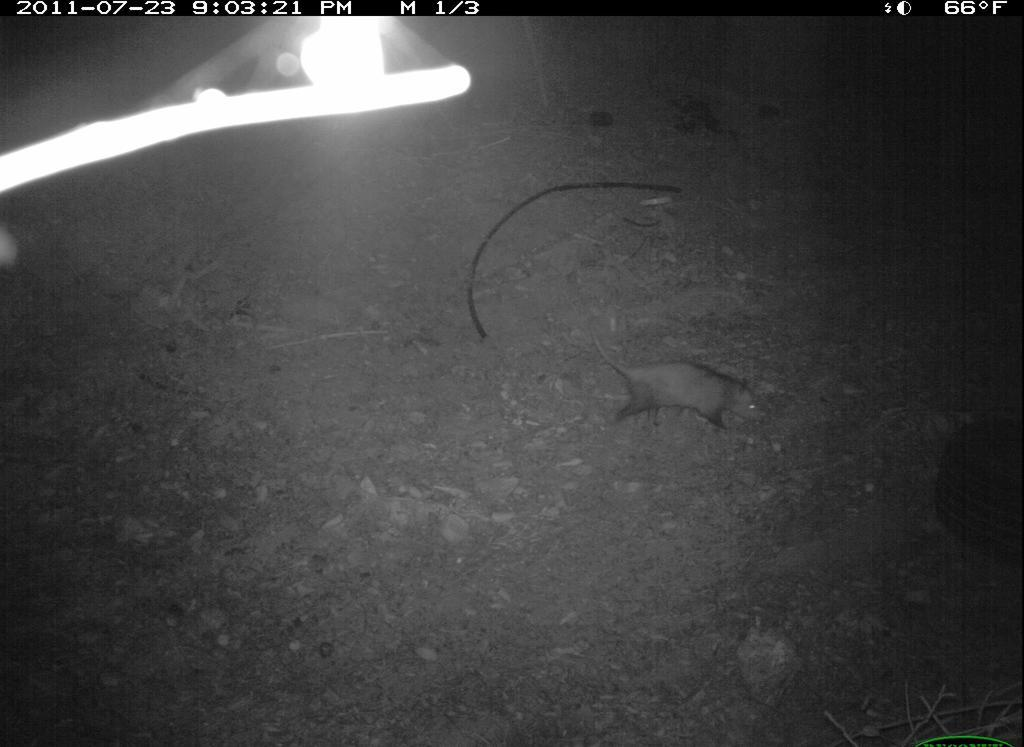opossum: (584, 318, 775, 442)
